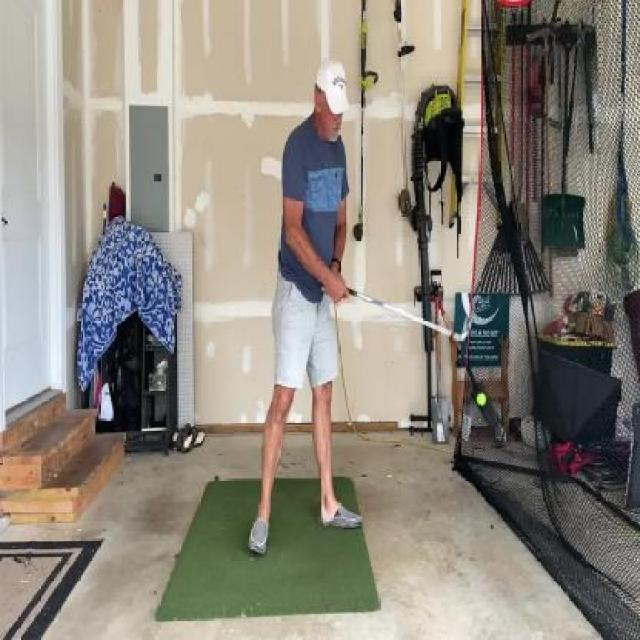club head: (450, 315, 473, 343)
